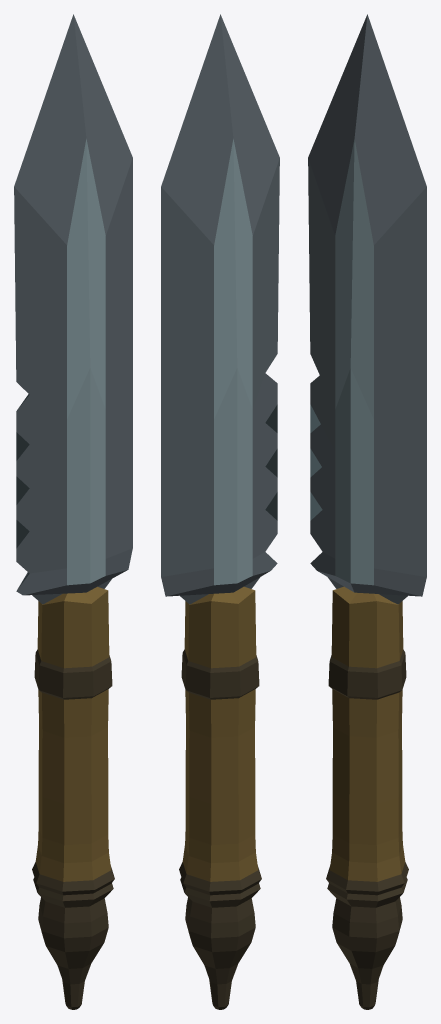
Rendered from SM_Prop_cuchillo.fbx.
The picture shows the model from 3 angles, left to right: view 1: azimuth 30°, elevation 25°; view 2: azimuth 210°, elevation 25°; view 3: azimuth 330°, elevation 25°; orthographic projection.
Parts seen in each view (by area): view 1: Vert; view 2: Vert; view 3: Vert.
Boxes of the visible parts, x1,y1,x2,y2 form: Vert: (14, 14, 132, 1009); Vert: (161, 14, 279, 1009); Vert: (308, 14, 426, 1009).
Bounding box in the file's own units: 12.31 × 98.54 × 7.71.
Materials: 1 (1 with a texture image).
